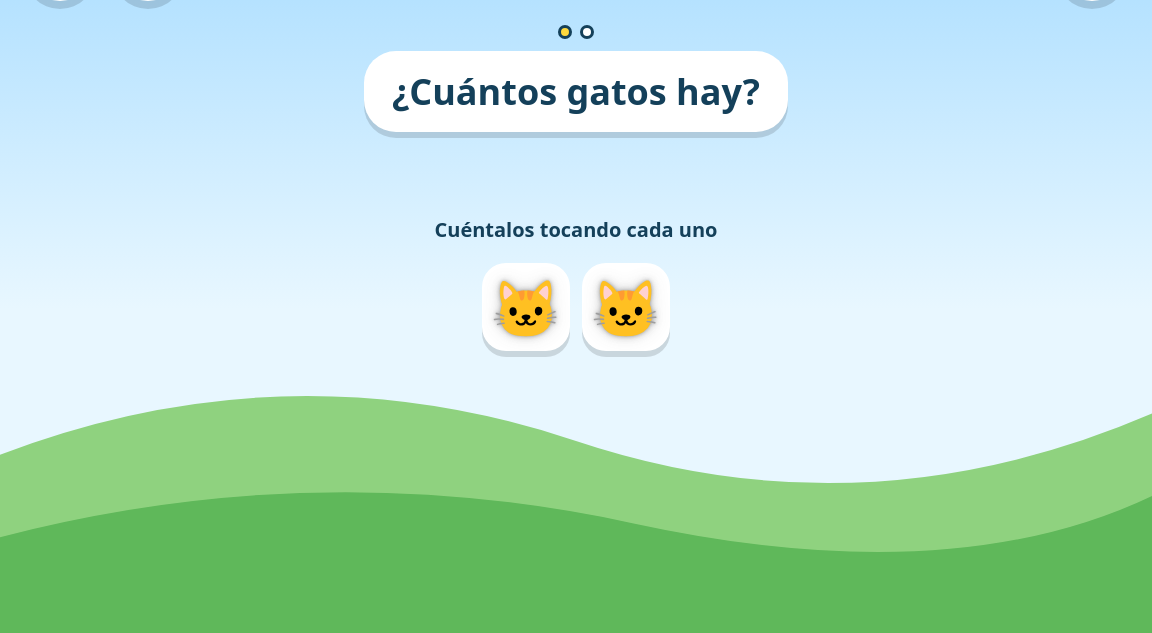
Test: Practice: ejercicios de elegir › contar tocando › al pasar al siguiente ejercicio hay que volver a contar
Click the button named "Contar" at (526, 307), box [482,263,570,351]
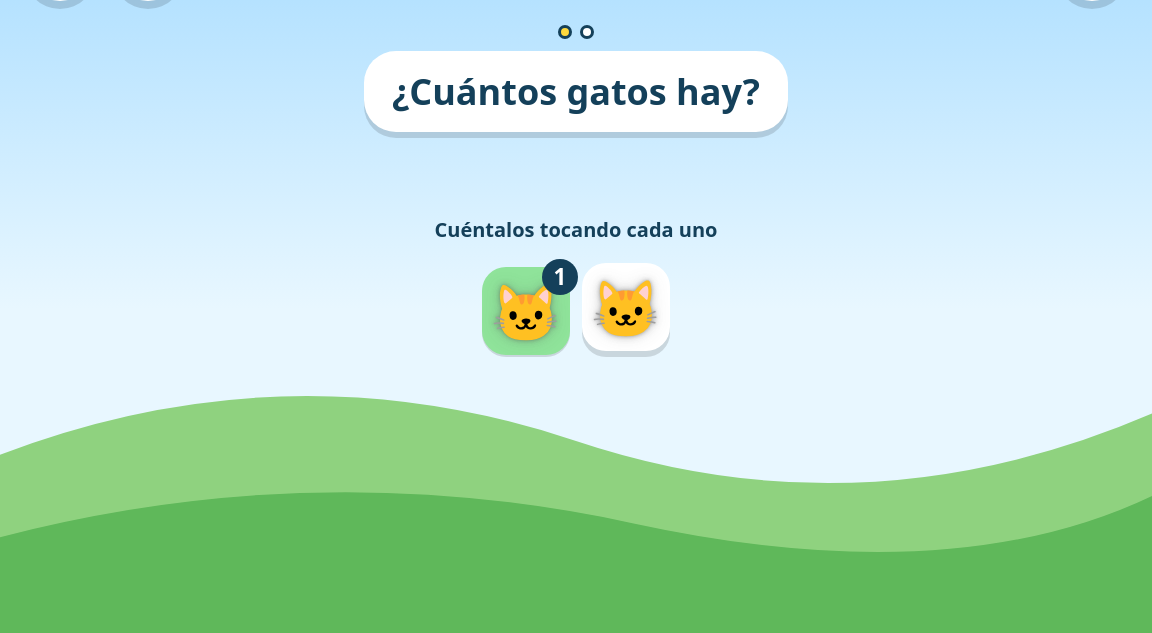
Click the button named "Contar" at (626, 307), box [582,263,670,351]
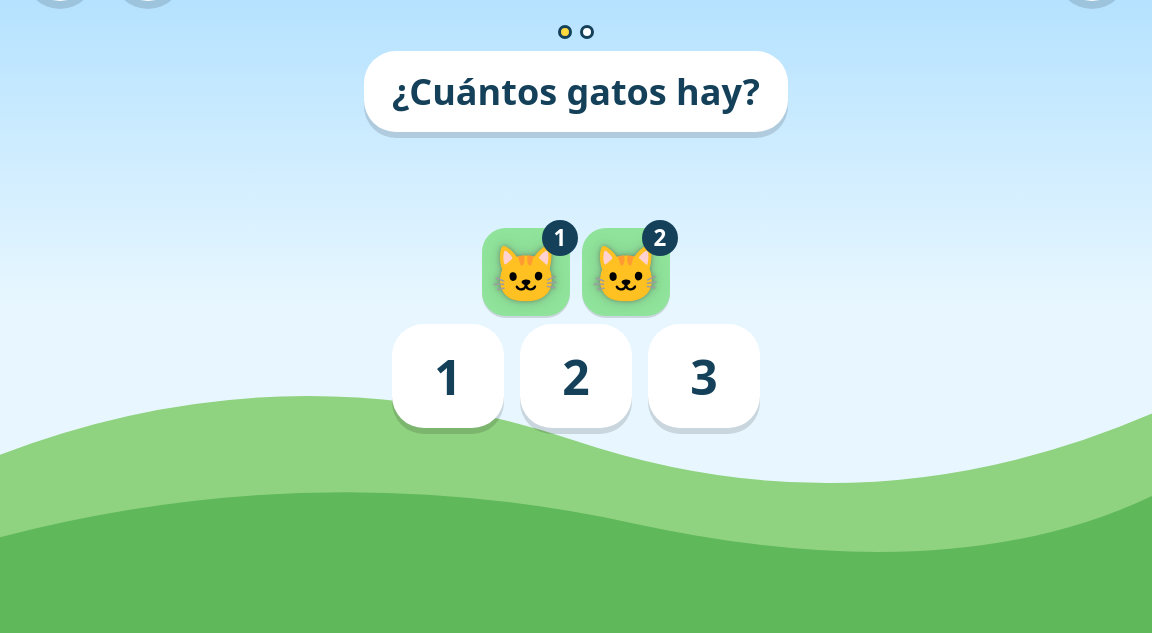
Click the button "2" at (576, 376), box [520,324,632,428]
(page scrolled)
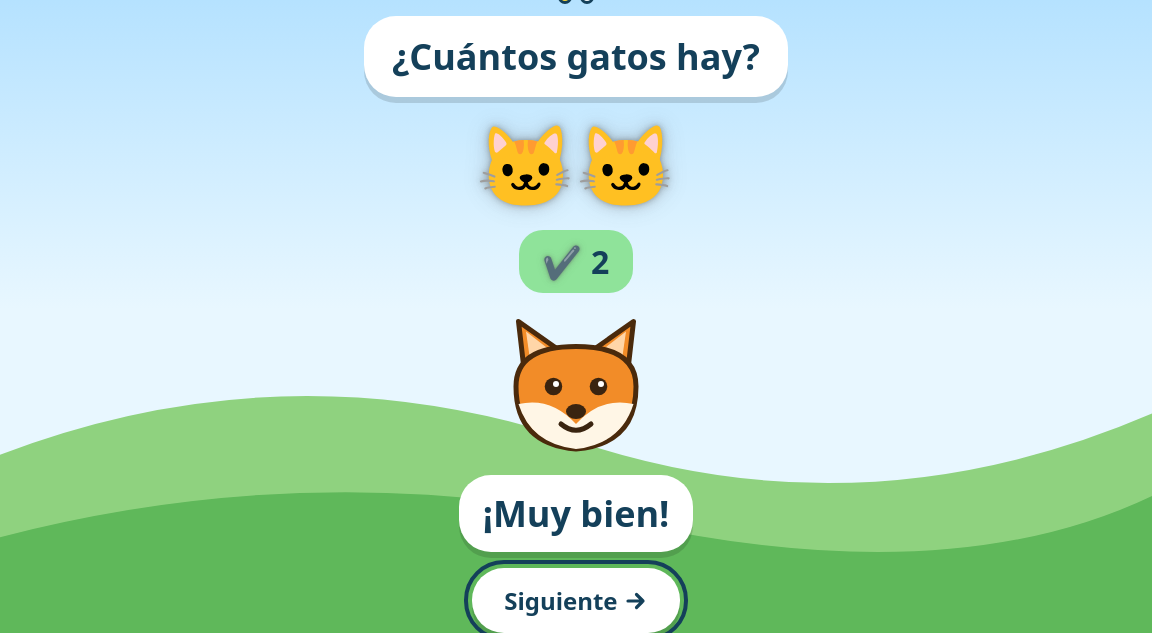
Click the button "Siguiente" at (576, 601), box [472,568,680,632]
(page scrolled)
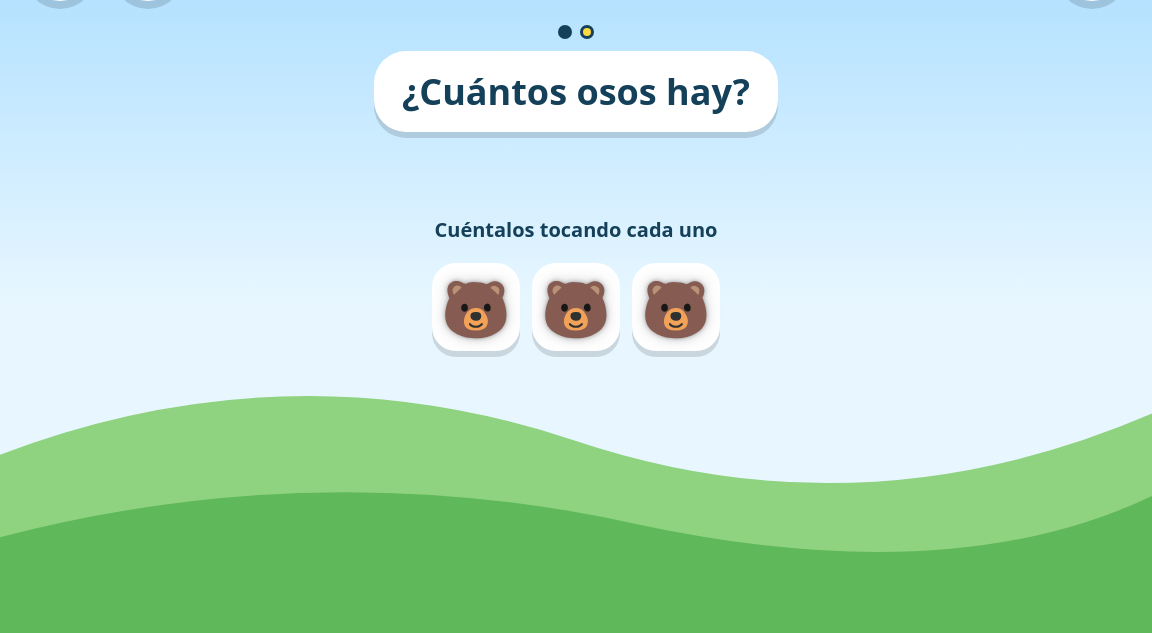
Check: the button "1" is not shown
Check: the number of buttons named "Contar" is 3, box [432,263,520,351]; [532,263,620,351]; [632,263,720,351]
